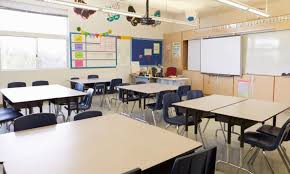desk: (0, 120, 200, 172), (211, 98, 287, 157), (171, 95, 237, 143), (0, 85, 86, 114), (116, 83, 179, 110), (68, 72, 119, 101)
